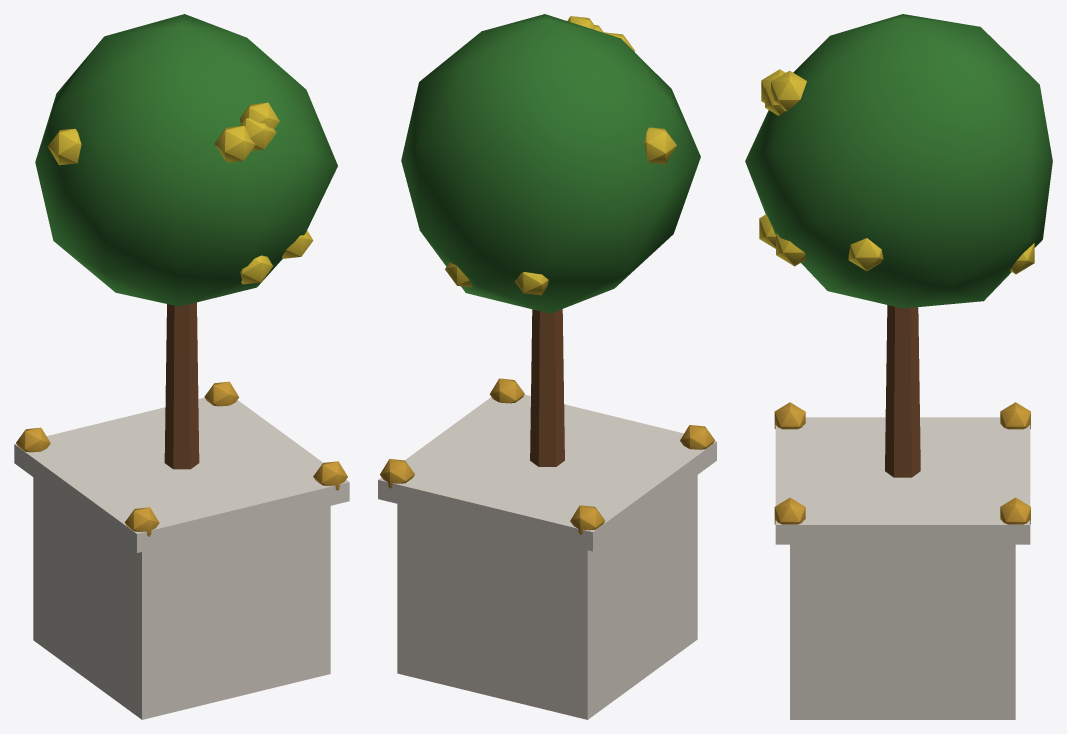
The model's file is lemon_pot.glb.
3 views of the same model, side by side, from view 1: azimuth 30°, elevation 25°; view 2: azimuth 150°, elevation 25°; view 3: azimuth 270°, elevation 25° (orthographic). The views are drawn at different scales.
Visible parts, largest first — view 1: furniture-lemon_pot; view 2: furniture-lemon_pot; view 3: furniture-lemon_pot.
Part boxes in pixels (x1=…): furniture-lemon_pot: x1=14, y1=14, x2=349, y2=719; furniture-lemon_pot: x1=378, y1=14, x2=716, y2=719; furniture-lemon_pot: x1=745, y1=14, x2=1052, y2=719.
Size of the model in its own units: 0.8368 by 1.98 by 0.846.
